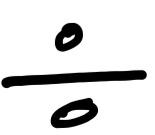div: (2, 23, 147, 128)
